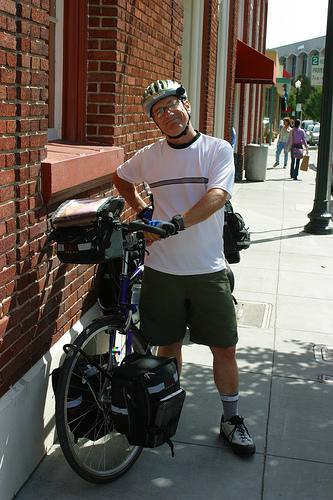car: (45, 216, 187, 486)
person: (112, 79, 258, 459), (285, 121, 312, 181), (273, 118, 290, 169)
